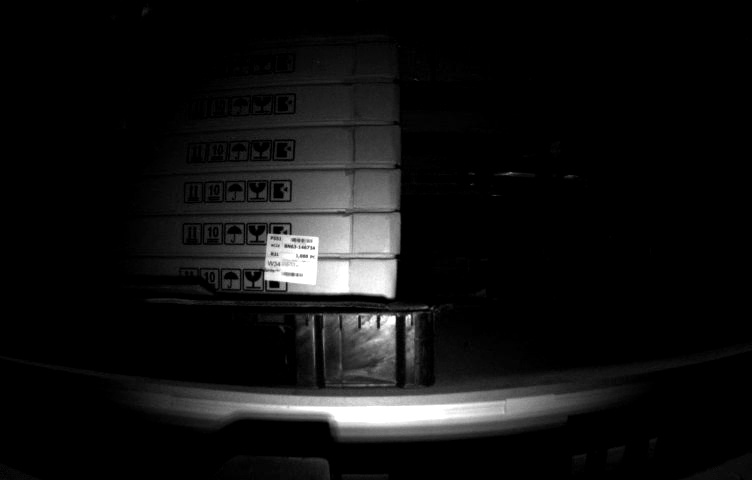True Barcode: (267, 229, 326, 290)
